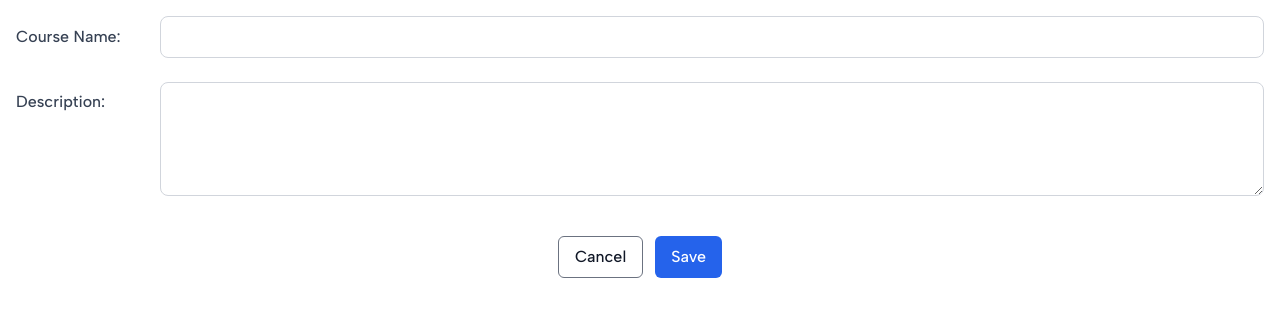
it: CourseForm › shows only the relevant error if only one field is empty
Type "React 101" into the field labelled "Course Name:". click: {"x": 712, "y": 37}
box: [160,16,1264,58]
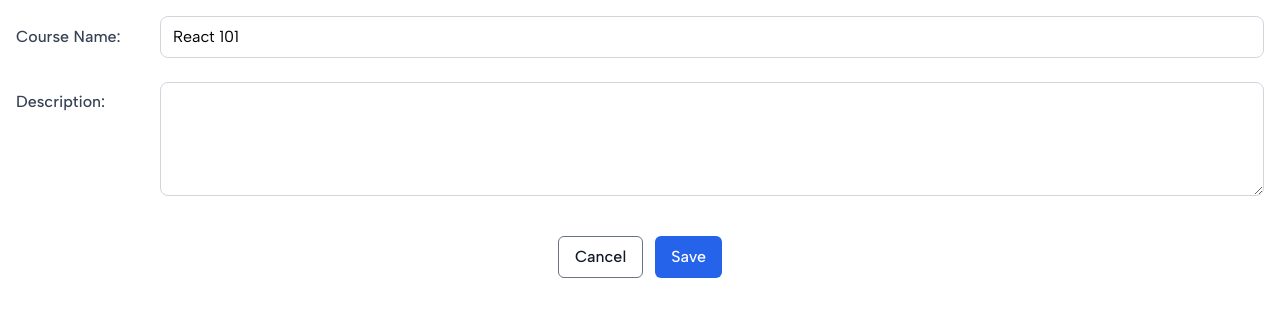
Click the button "Save". click: {"x": 689, "y": 257}
box: [655,236,722,278]
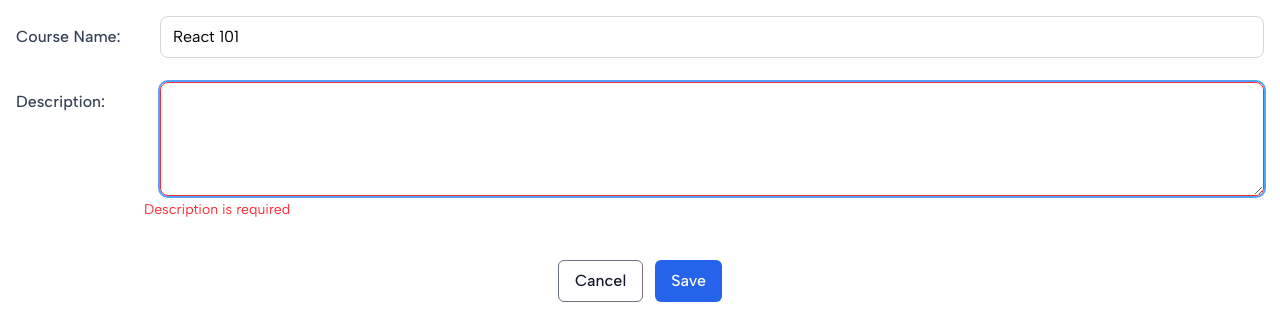
Now the text "Description is required" is shown, box [144,201,290,218]
